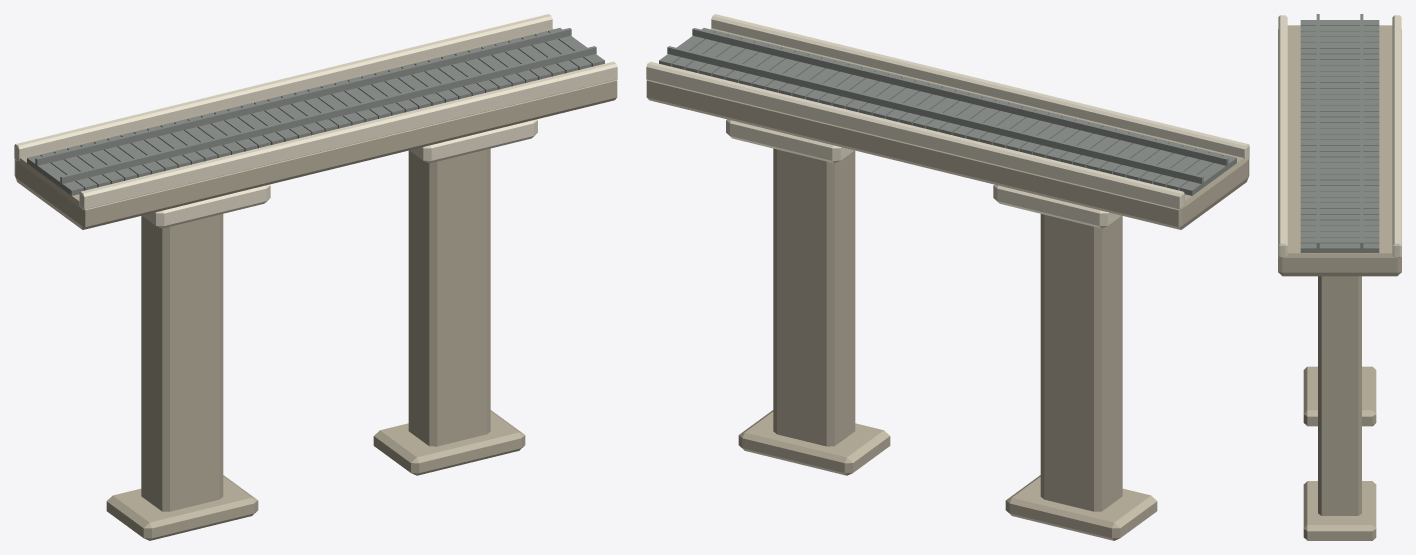
Rendered from tpe_mrt_viaduct_tile14m.glb.
3 views of the same model, side by side, from view 1: azimuth 30°, elevation 25°; view 2: azimuth 150°, elevation 25°; view 3: azimuth 270°, elevation 25° (orthographic). The views are drawn at different scales.
Parts seen in each view (by area): view 1: tpe_mrt_viaduct_tile14m; view 2: tpe_mrt_viaduct_tile14m; view 3: tpe_mrt_viaduct_tile14m.
Boxes of the visible parts, x1=… form: tpe_mrt_viaduct_tile14m: x1=14, y1=14, x2=617, y2=540; tpe_mrt_viaduct_tile14m: x1=646, y1=14, x2=1249, y2=540; tpe_mrt_viaduct_tile14m: x1=1278, y1=14, x2=1401, y2=540.
Size of the model in its own units: 14 by 9.5 by 3.2.
